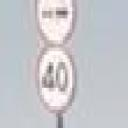speed_limit_40: (35, 44, 77, 113)
